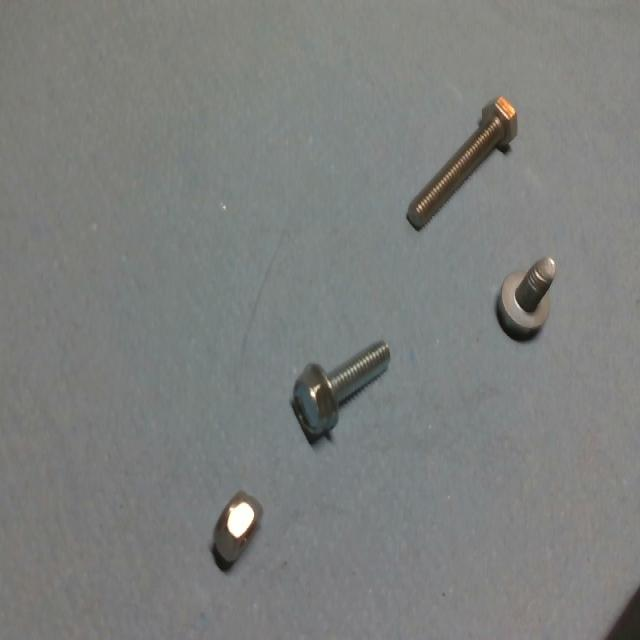Bolt: (406, 97, 516, 232), (291, 340, 390, 437), (495, 259, 556, 340)
Nut: (211, 489, 263, 572)
